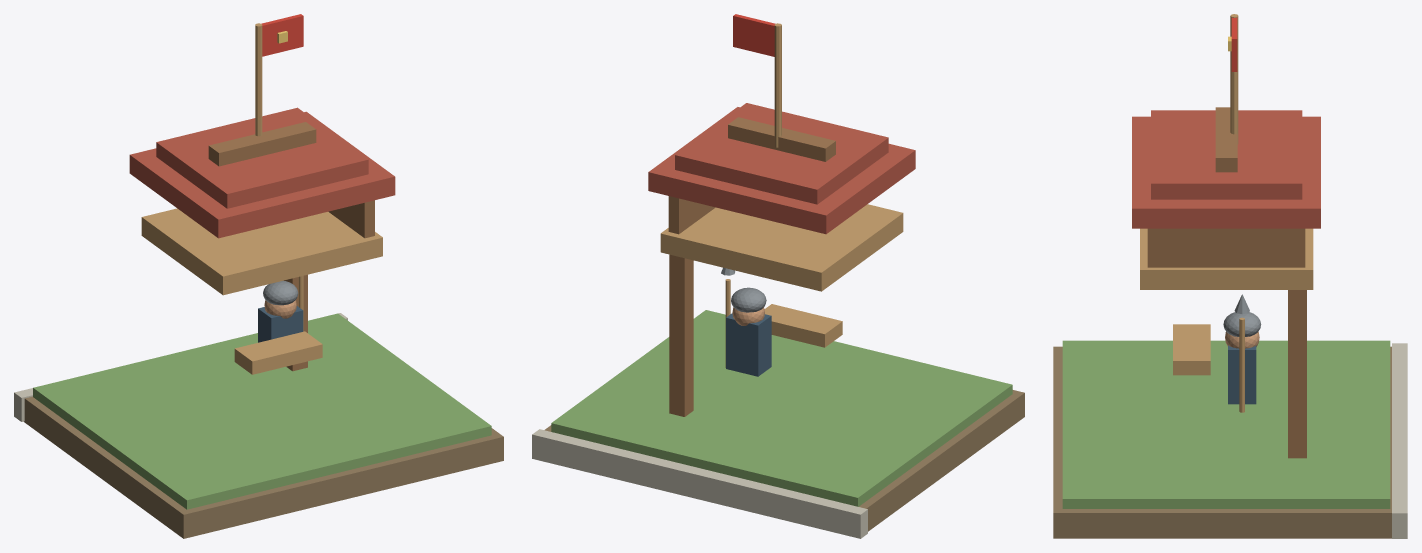
The model's file is 05_O_ThapCanh.glb.
3 renders of one model, left to right at view 1: azimuth 30°, elevation 25°; view 2: azimuth 150°, elevation 25°; view 3: azimuth 270°, elevation 25°, orthographic. The views are drawn at different scales.
Visible parts, largest first — view 1: grass, soil, platform, roof2, roof, ridge, stair, flag, body, rail, pole, helmet; view 2: grass, platform, border, roof2, roof, soil, leg, ridge, body, stair, flag, rail (+2 smaller); view 3: grass, roof2, soil, roof, rail, platform, leg, border, stair, body, ridge, pole (+2 smaller).
Part boxes in pixels (x1=…): grass: x1=33, y1=313, x2=491, y2=509; soil: x1=24, y1=396, x2=503, y2=538; platform: x1=141, y1=208, x2=382, y2=295; roof2: x1=156, y1=107, x2=368, y2=208; roof: x1=129, y1=111, x2=395, y2=238; ridge: x1=208, y1=122, x2=316, y2=166; stair: x1=234, y1=331, x2=322, y2=374; flag: x1=261, y1=14, x2=303, y2=56; body: x1=258, y1=306, x2=303, y2=342; rail: x1=328, y1=200, x2=374, y2=238; pole: x1=255, y1=23, x2=262, y2=136; helmet: x1=263, y1=280, x2=298, y2=305; grass: x1=551, y1=310, x2=1012, y2=506; platform: x1=660, y1=204, x2=903, y2=291; border: x1=532, y1=429, x2=867, y2=538; roof2: x1=675, y1=103, x2=888, y2=204; roof: x1=648, y1=107, x2=915, y2=234; soil: x1=544, y1=390, x2=1024, y2=531; leg: x1=669, y1=254, x2=693, y2=416; ridge: x1=728, y1=117, x2=835, y2=161; body: x1=726, y1=313, x2=771, y2=376; stair: x1=764, y1=304, x2=842, y2=347; flag: x1=733, y1=14, x2=775, y2=56; rail: x1=668, y1=196, x2=715, y2=234; grass: x1=1062, y1=340, x2=1390, y2=508; roof2: x1=1151, y1=110, x2=1302, y2=199; soil: x1=1053, y1=346, x2=1391, y2=538; roof: x1=1132, y1=116, x2=1320, y2=228; rail: x1=1147, y1=228, x2=1305, y2=267; platform: x1=1140, y1=228, x2=1313, y2=289; leg: x1=1288, y1=290, x2=1306, y2=458; border: x1=1392, y1=343, x2=1407, y2=538; stair: x1=1173, y1=324, x2=1210, y2=375; body: x1=1228, y1=345, x2=1256, y2=404; ridge: x1=1215, y1=107, x2=1237, y2=172; pole: x1=1230, y1=14, x2=1238, y2=144.
Bounding box in the file's own units: 2.55 × 3.08 × 2.25.
